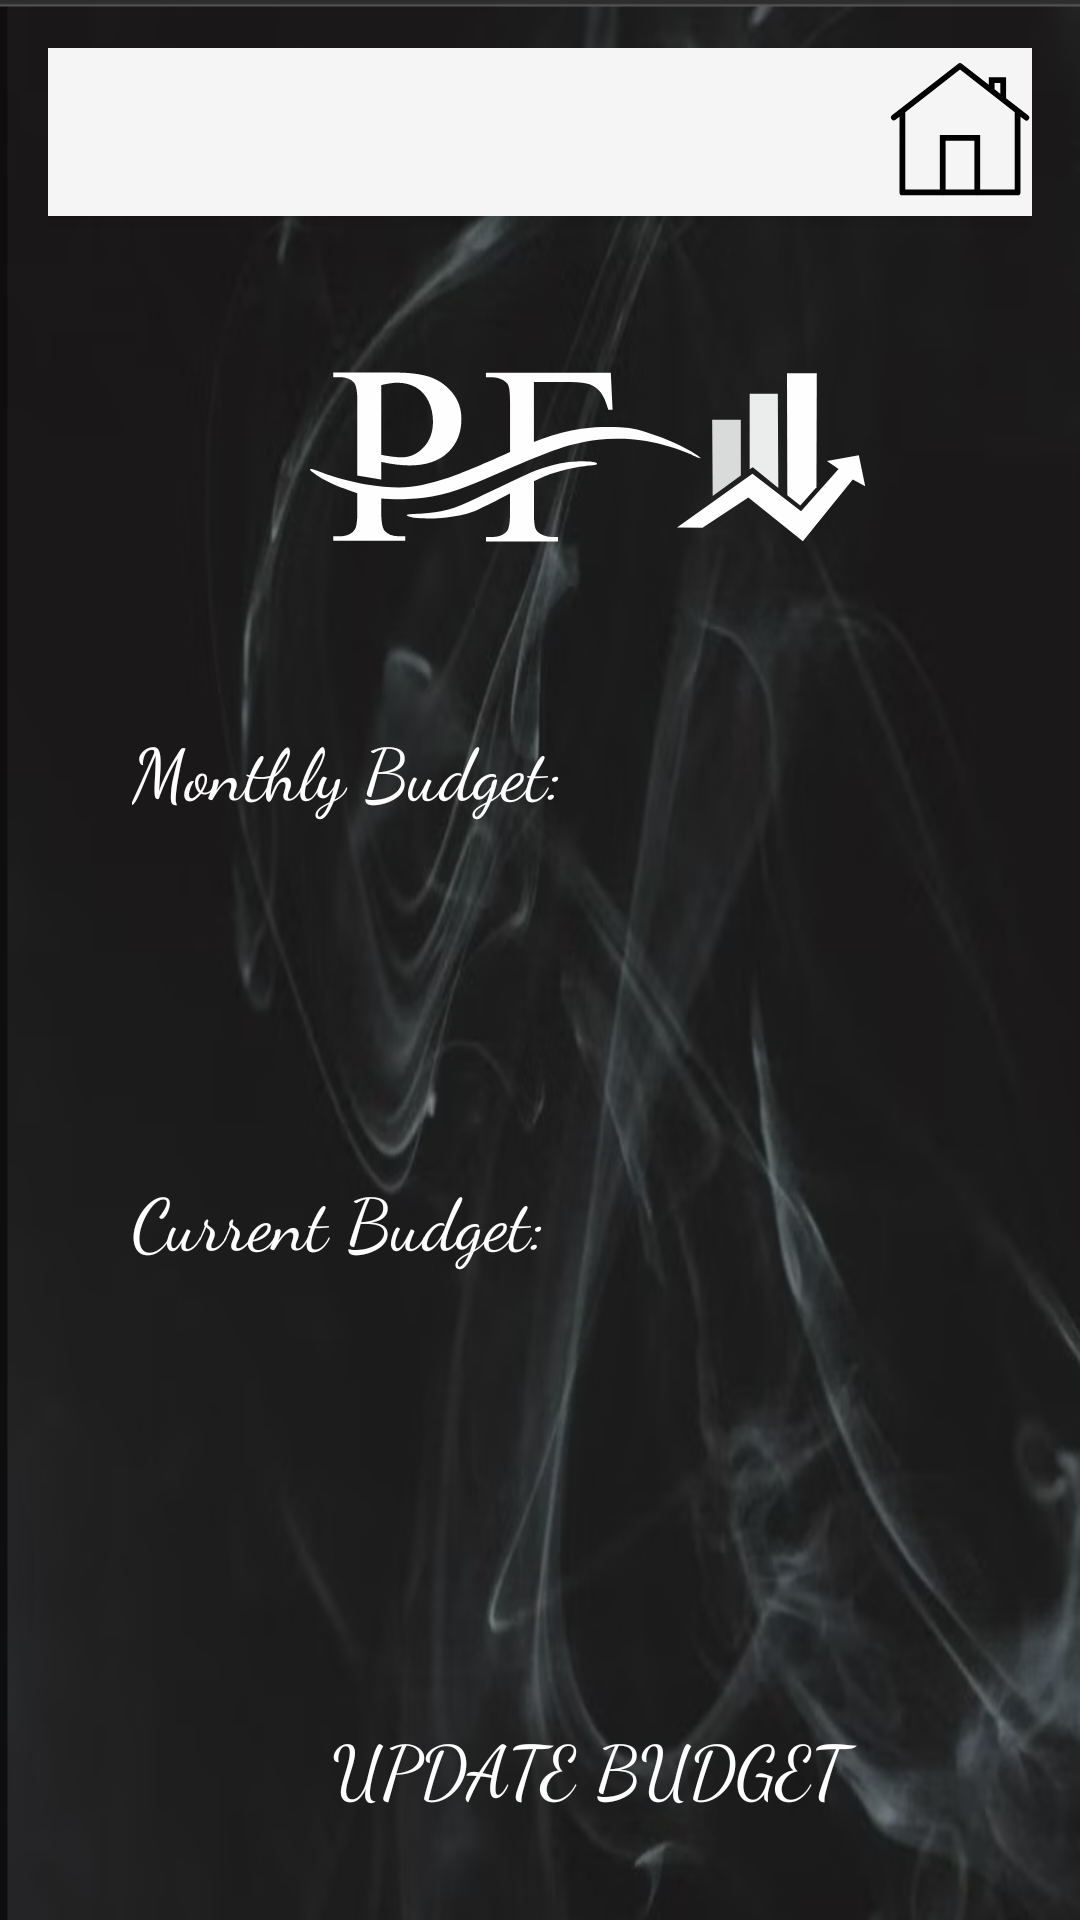

Icon bounding boxes for this 1080 × 1920 phone screenshot, format {"left": x1, "top": y1, "right": x2, "bottom": y2}:
Go to home activity: {"left": 890, "top": 63, "right": 1030, "bottom": 196}
